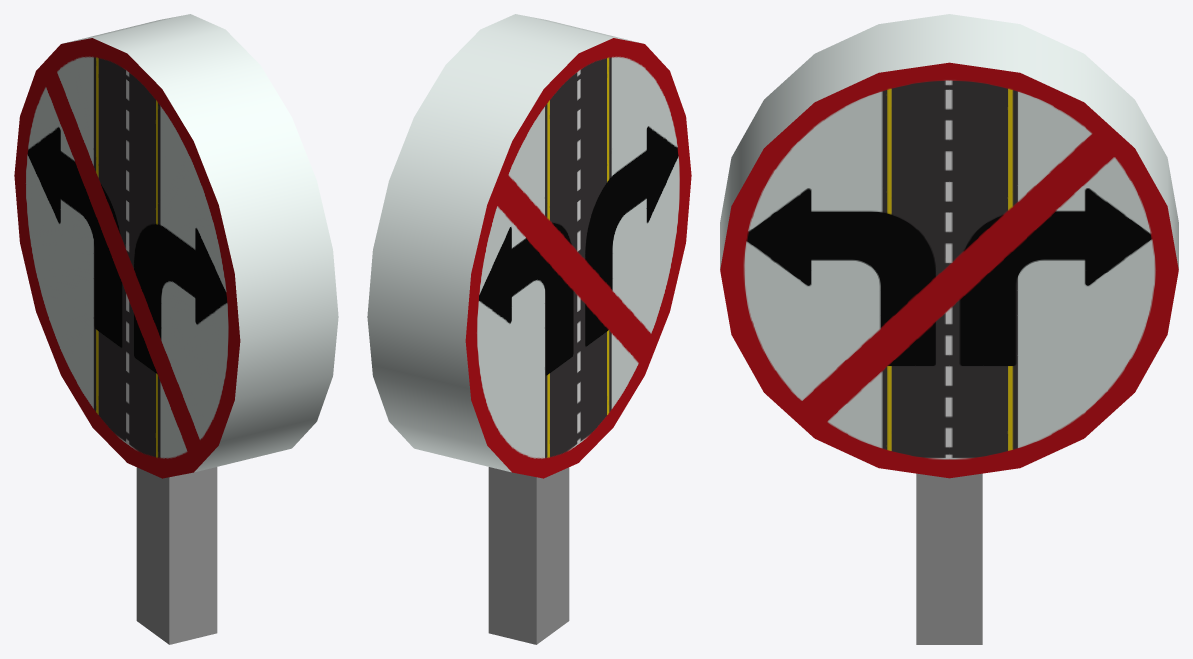
File: leftrightsign.fbx
3 renders of one model, left to right at view 1: azimuth 30°, elevation 25°; view 2: azimuth 150°, elevation 25°; view 3: azimuth 270°, elevation 25°, orthographic.
Parts seen in each view (by area): view 1: pCylinder32, pCube240; view 2: pCylinder32, pCube240; view 3: pCylinder32, pCube240.
Part boxes in pixels (x1,y1,x2,y2): pCylinder32: [14, 14, 338, 478]; pCube240: [136, 467, 217, 644]; pCylinder32: [367, 14, 691, 478]; pCube240: [488, 467, 569, 644]; pCylinder32: [720, 14, 1178, 478]; pCube240: [916, 473, 982, 644].
Size of the model in its own units: 0.2364 by 1.35 by 0.942.
2 materials, 1 textured.
